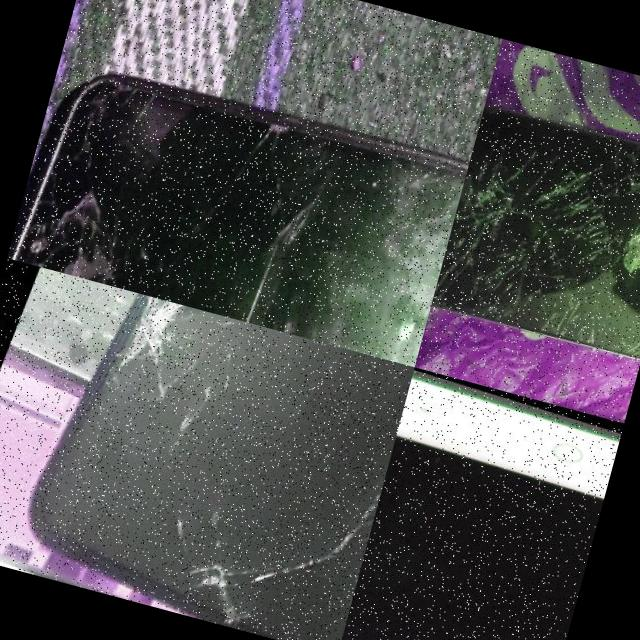screen crack: (147, 315, 413, 640), (427, 86, 640, 371), (52, 280, 272, 480), (6, 166, 163, 292), (60, 41, 156, 135), (224, 76, 312, 162)
